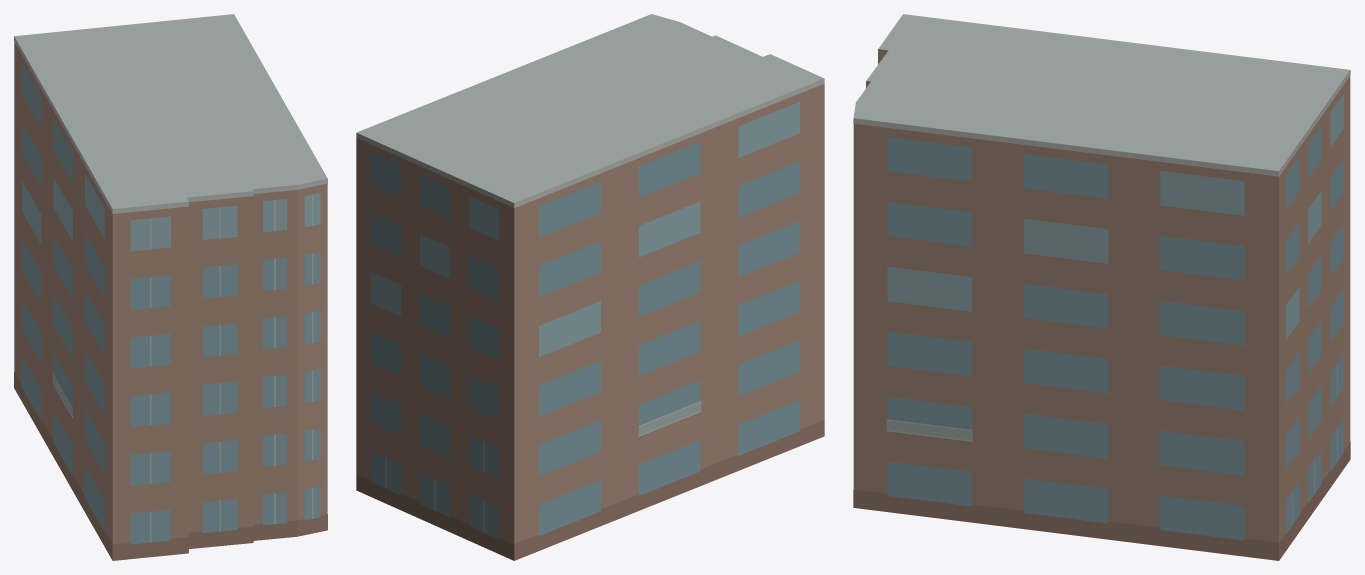
Rendered from survey-upis-32664673.glb.
The picture shows the model from 3 angles, left to right: view 1: azimuth 30°, elevation 25°; view 2: azimuth 150°, elevation 25°; view 3: azimuth 270°, elevation 25°; orthographic projection. The views are drawn at different scales.
Visible parts, largest first — view 1: survey-upis-32664673.tmp; view 2: survey-upis-32664673.tmp; view 3: survey-upis-32664673.tmp.
Boxes of the visible parts, x1,y1,x2,y2 form: survey-upis-32664673.tmp: [14, 14, 327, 560]; survey-upis-32664673.tmp: [356, 14, 824, 560]; survey-upis-32664673.tmp: [853, 14, 1350, 560].
Bounding box in the file's own units: 15.07 × 17.4 × 20.12.
